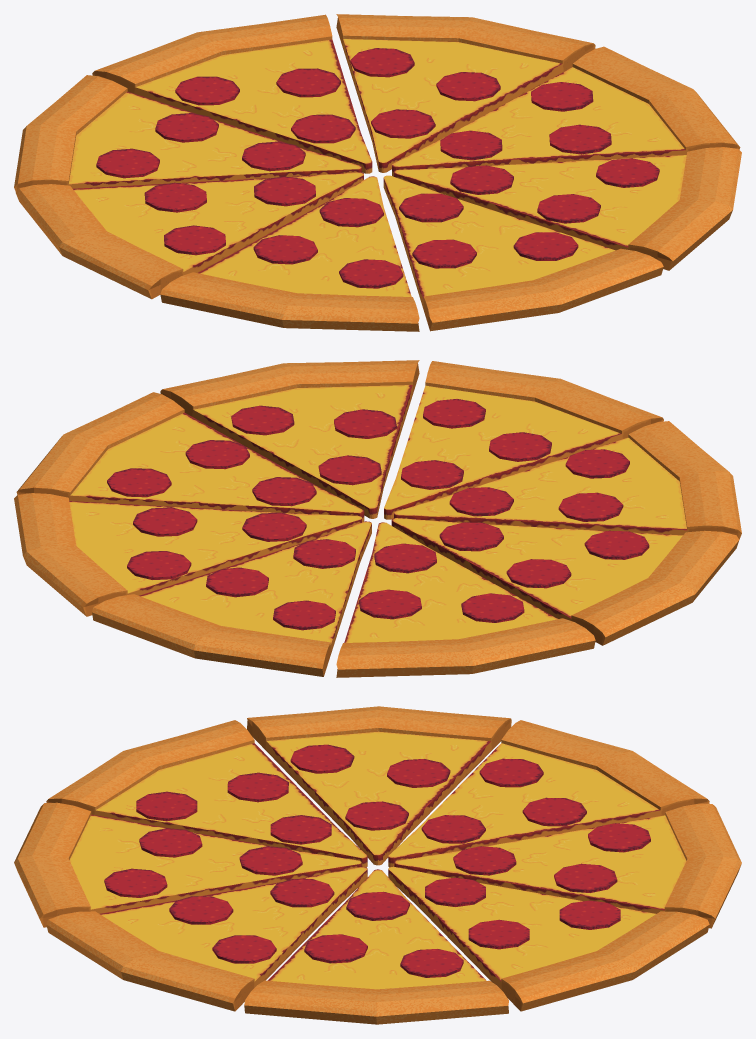
Rendered from Pizza_Peperoni.fbx.
3 renders of one model, top to bottom at view 1: azimuth 30°, elevation 25°; view 2: azimuth 150°, elevation 25°; view 3: azimuth 270°, elevation 25°, orthographic.
Parts seen in each view (by area): view 1: Cheese, Crust, peperoni; view 2: Cheese, Crust, peperoni; view 3: Cheese, Crust, peperoni.
Boxes of the visible parts, bbox=[...] form: Cheese: bbox=[69, 39, 686, 299]; Crust: bbox=[14, 14, 741, 331]; peperoni: bbox=[96, 48, 659, 288]; Cheese: bbox=[69, 385, 686, 644]; Crust: bbox=[14, 360, 741, 677]; peperoni: bbox=[107, 399, 649, 630]; Cheese: bbox=[69, 731, 686, 989]; Crust: bbox=[14, 706, 741, 1024]; peperoni: bbox=[104, 744, 650, 977].
Size of the model in its own units: 63.28 by 1.57 by 63.28.
